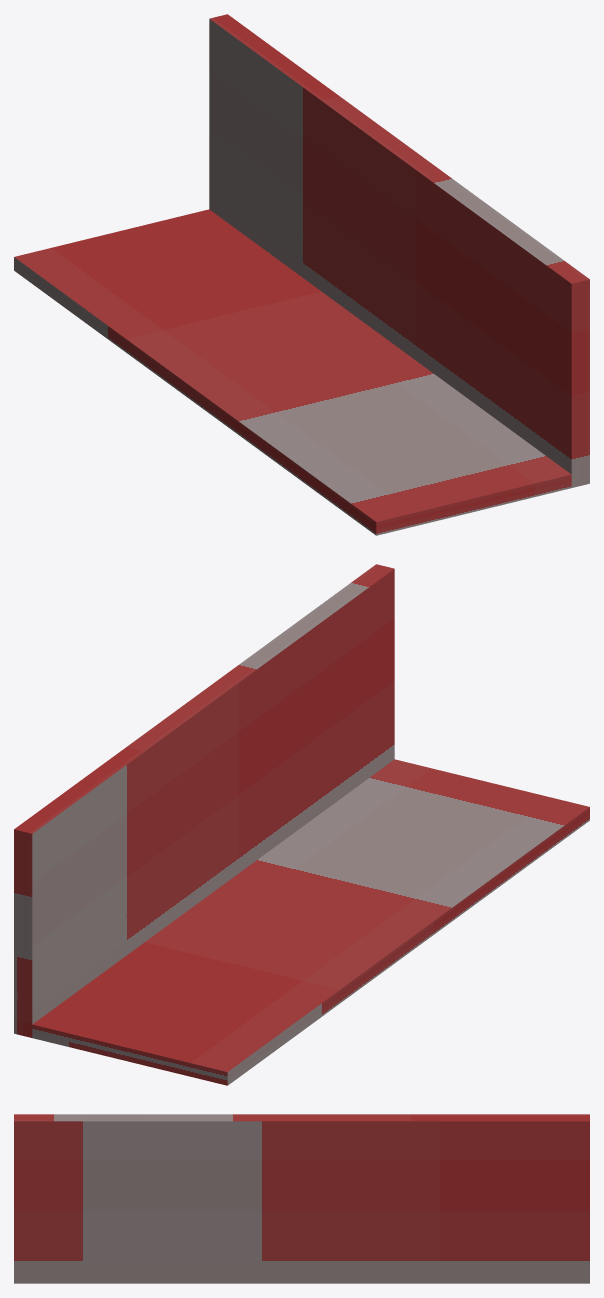
The model's file is ExtColl.fbx.
3 renders of one model, top to bottom at view 1: azimuth 30°, elevation 25°; view 2: azimuth 150°, elevation 25°; view 3: azimuth 270°, elevation 25°, orthographic. The views are drawn at different scales.
Parts seen in each view (by area): view 1: ExteriorColl1, ExteriorColl; view 2: ExteriorColl1, ExteriorColl; view 3: ExteriorColl1.
Boxes of the visible parts, <box> form: ExteriorColl1: <box>209,14,589,487</box>; ExteriorColl: <box>14,209,571,535</box>; ExteriorColl1: <box>14,564,394,1037</box>; ExteriorColl: <box>32,759,589,1085</box>; ExteriorColl1: <box>14,1114,589,1283</box>.
Size of the model in its own units: 1192 by 1089 by 3500.
Materials: 1 (1 with a texture image).
